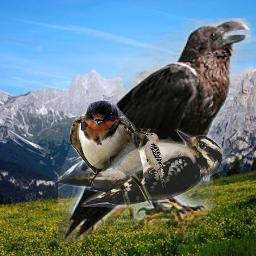Crow: (58, 18, 256, 242)
Swallow: (70, 99, 152, 207)
Woodpecker: (55, 128, 234, 212), (140, 129, 167, 188)
